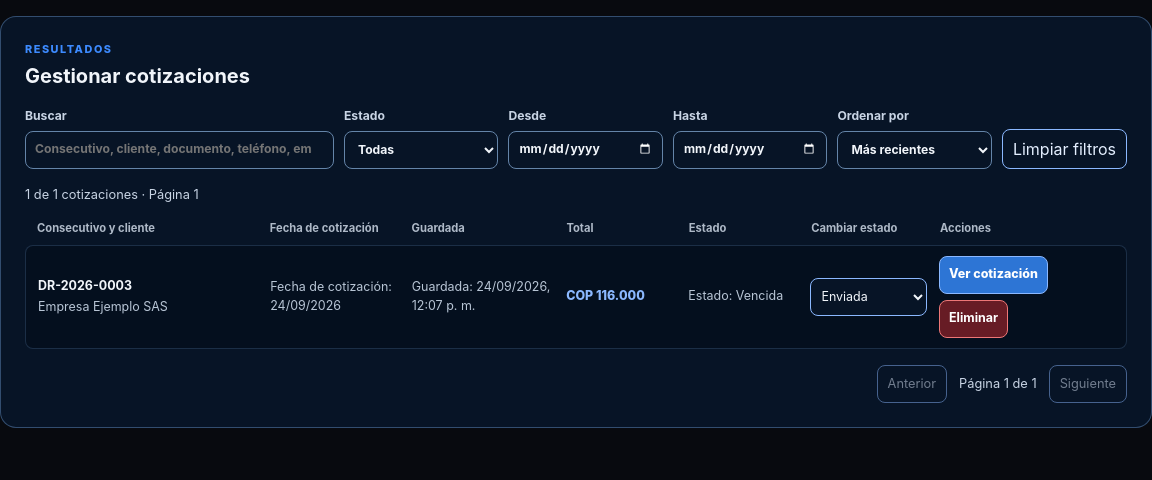
QuotationHistory › shows a safe message and preserves the displayed status when status RPC fails
Expected: the dropdown labelled "Estado" is shown, [344,130,498,168]
Select "Rechazada" in the dropdown named "Cambiar estado de DR-2026-0003": x=869, y=296 [810,278,927,316]
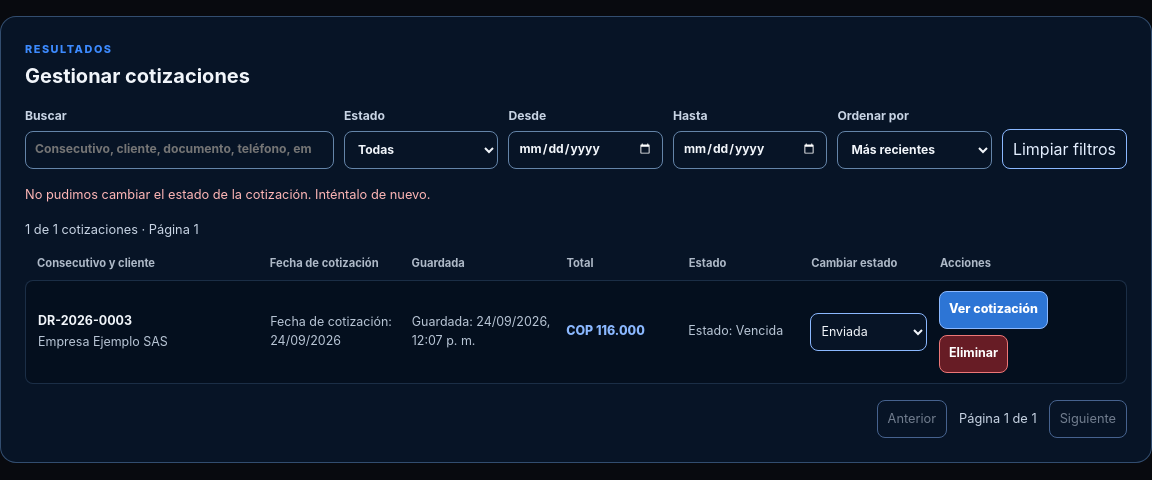
Now the message "No pudimos cambiar el estado de la cotización. Inténtalo de nuevo." is shown, box [25,186,430,202]
